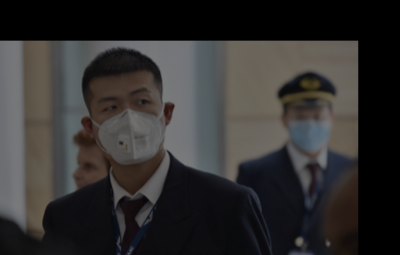with_mask: (90, 84, 166, 163), (288, 107, 333, 154)
